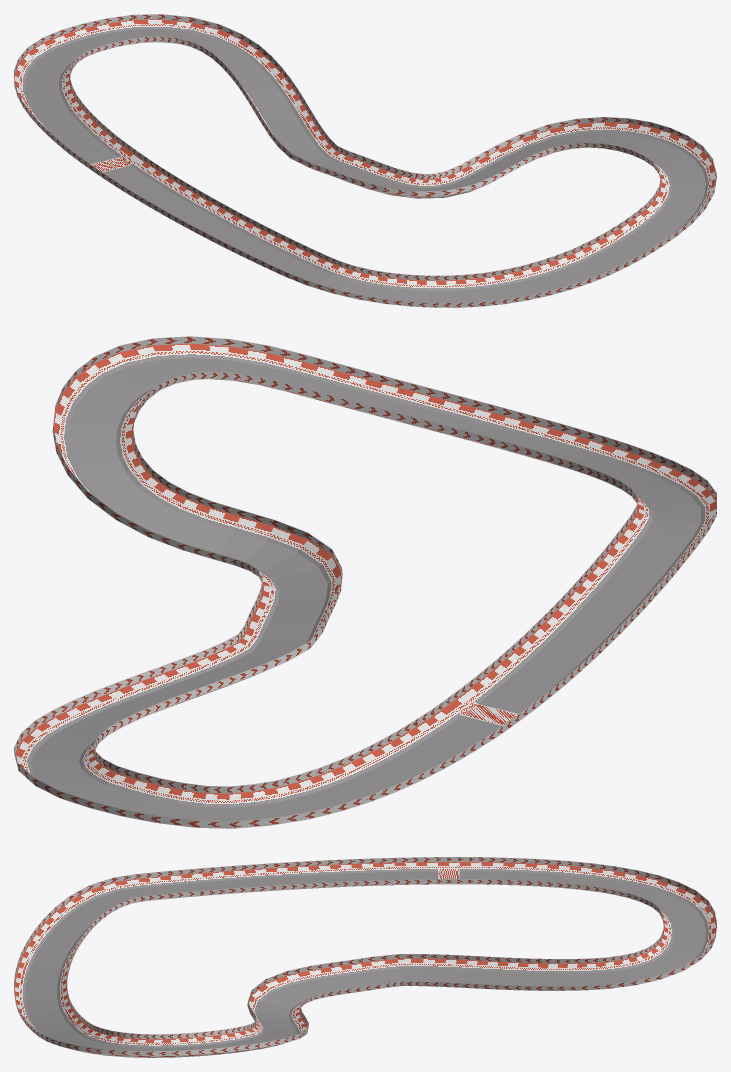
The model's file is Track_with_start_check.fbx.
3 renders of one model, top to bottom at view 1: azimuth 30°, elevation 25°; view 2: azimuth 150°, elevation 25°; view 3: azimuth 270°, elevation 25°, orthographic. The views are drawn at different scales.
Parts seen in each view (by area): view 1: Plane; view 2: Plane; view 3: Plane.
Part boxes in pixels (left/top/right/bottom): Plane: left=14, top=14, right=716, bottom=307; Plane: left=14, top=336, right=716, bottom=828; Plane: left=14, top=857, right=716, bottom=1057.
Bounding box in the file's own units: 47.36 × 4.87 × 66.37.
